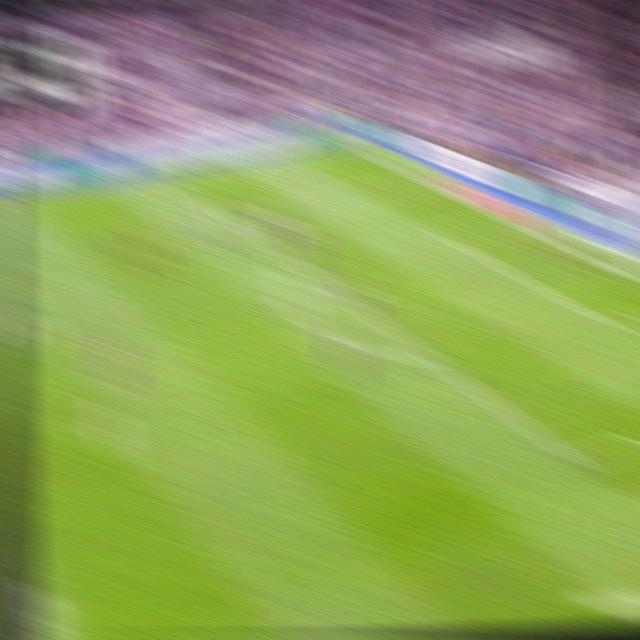bigarea_bottom_inner: (560, 442, 593, 477)
bigarea_top_inner: (224, 210, 249, 230)
bigarea_top_outter: (412, 171, 437, 189)
bottom_arc_area_intersection: (414, 342, 443, 368)
corner: (329, 133, 357, 151)
smallarea_top_inner: (431, 227, 454, 245)
top_arc_area_intersection: (298, 262, 326, 285)
